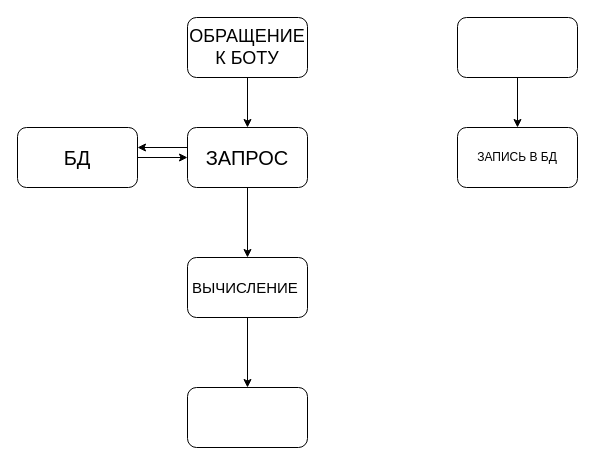
Some shapes in this 595 by 465 pixel diagram are drawn without their labels. Here are the shapes that lost their labels. From the top down, the centre of each, then its label:
At [517,47]: "СЧИТЫВАНИЕ РАСПИАНИЕ".
At [247,417]: "ВЫВОД РЕЗУЛЬТАТА".
